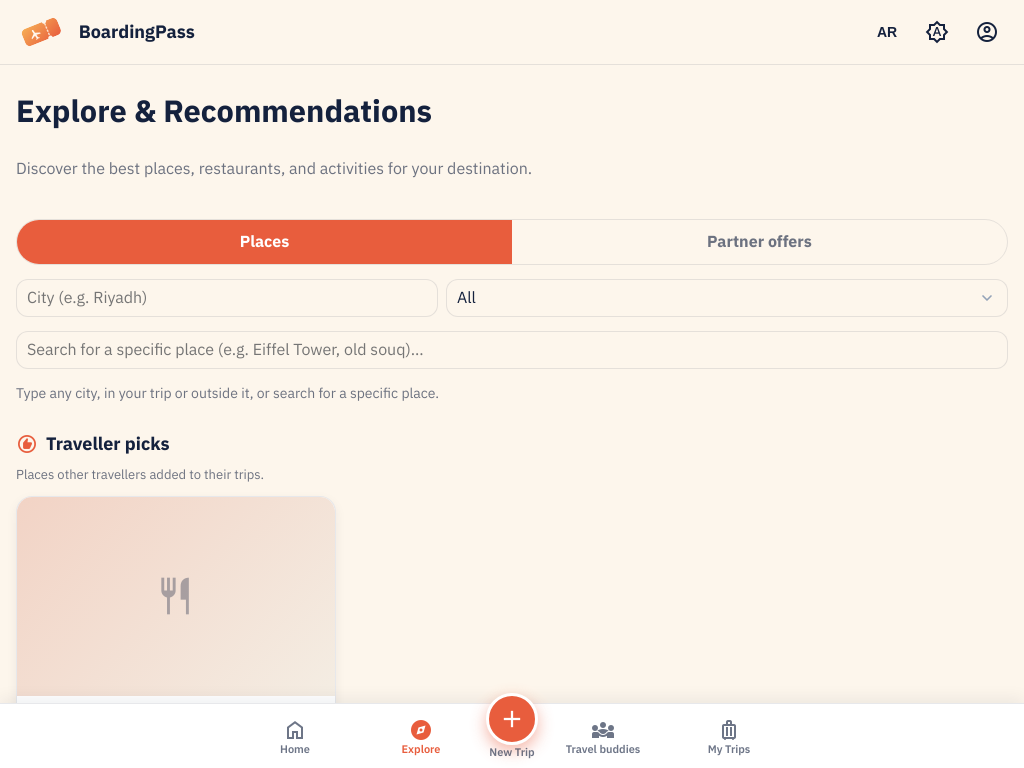
Scenario: Explore tabs UI › switches to the Partner offers tab and lists partners
The image size is (1024, 768).
Click the tab "Partner offers": (760, 242) [512,220,1007,264]
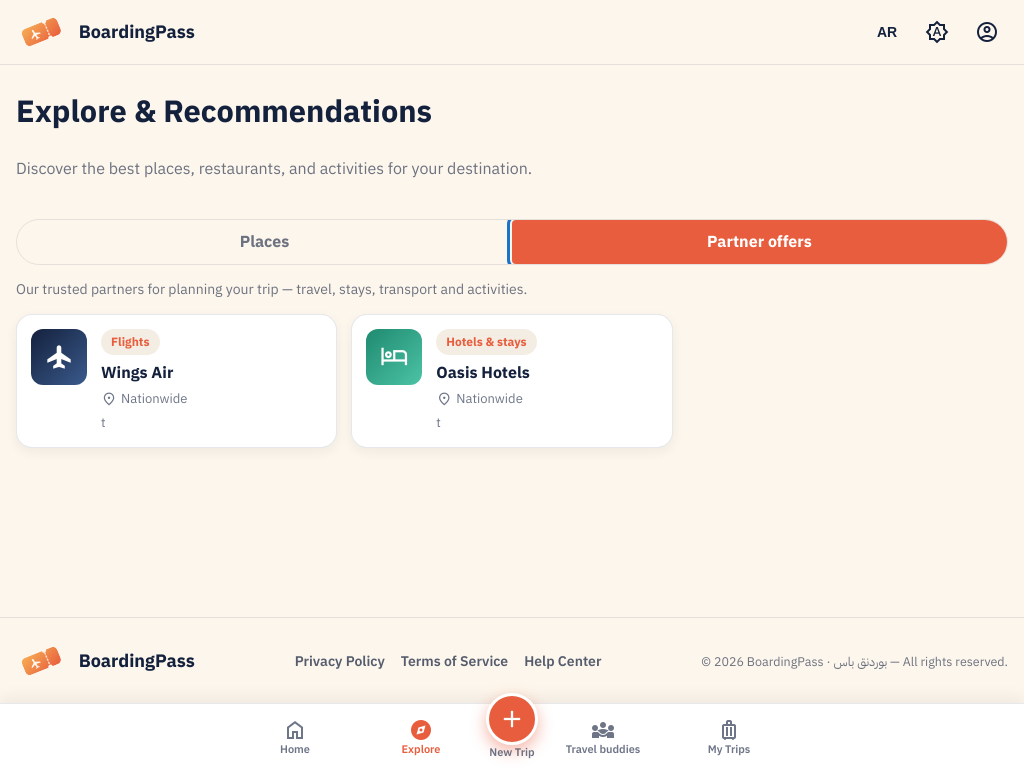
expect the heading "Wings Air" is shown: met, box [101,361,173,385]
expect the heading "Oasis Hotels" is shown: met, box [436,361,537,385]
